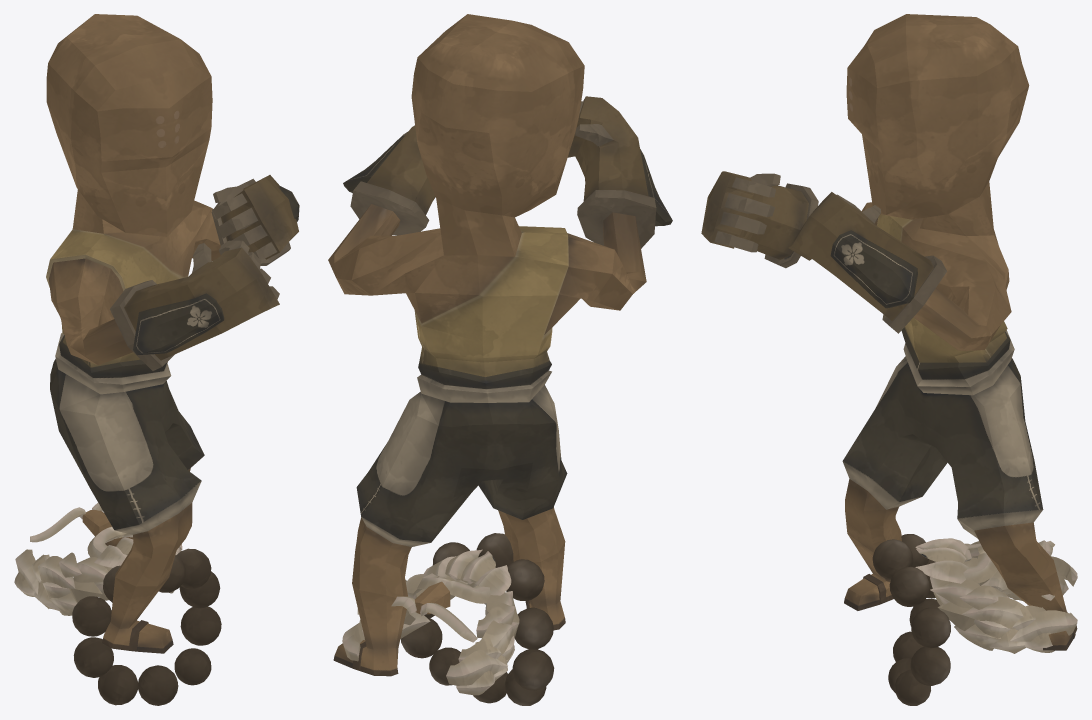
The model's file is quaternius-char-monk.glb.
3 renders of one model, left to right at view 1: azimuth 30°, elevation 25°; view 2: azimuth 150°, elevation 25°; view 3: azimuth 270°, elevation 25°, orthographic. The views are drawn at different scales.
Parts seen in each view (by area): view 1: Monk; view 2: Monk; view 3: Monk.
Boxes of the visible parts, bbox=[...] form: Monk: bbox=[14, 14, 299, 705]; Monk: bbox=[328, 14, 672, 705]; Monk: bbox=[701, 14, 1077, 705].
Bounding box in the file's own units: 1.29 × 3.21 × 1.65.
Materials: 1 (1 with a texture image).
